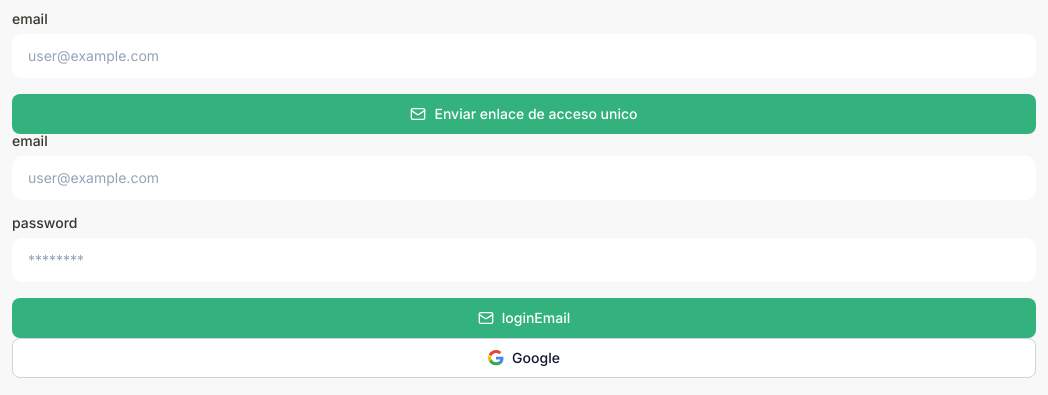
Test: AuthForms › OTP loading stays local and does not disable email/google actions
The width and height of the screenshot is (1048, 395).
Step 1. Type "otp@example.com" into the 1st field labelled "email" → (524, 56), box x1=12 y1=34 x2=1036 y2=78
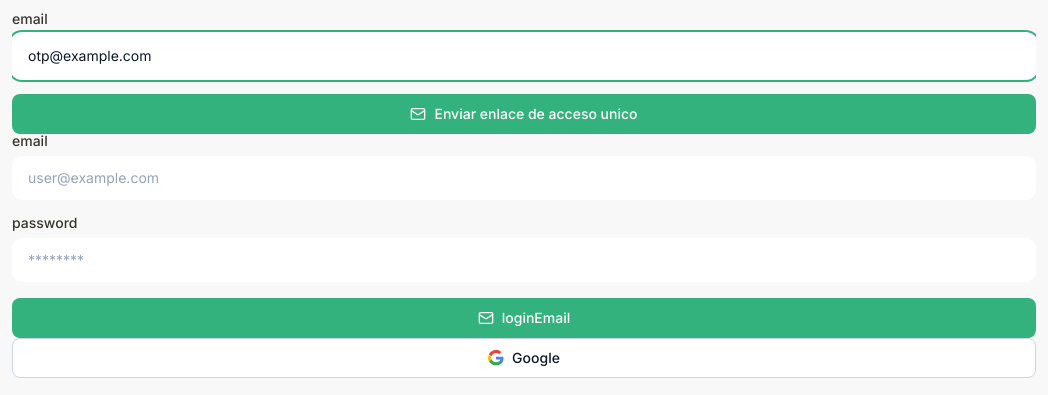
Step 2. Click the button "Enviar enlace de acceso unico" → (524, 114), box x1=12 y1=94 x2=1036 y2=134
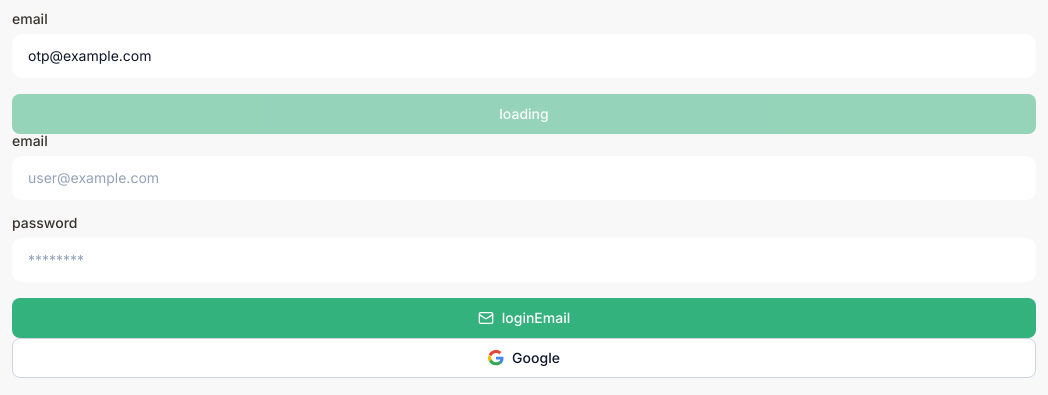
expect the button with test id "login-google" is enabled: met, box x1=12 y1=338 x2=1036 y2=378
expect the button "loading" is disabled: met, box x1=12 y1=94 x2=1036 y2=134
